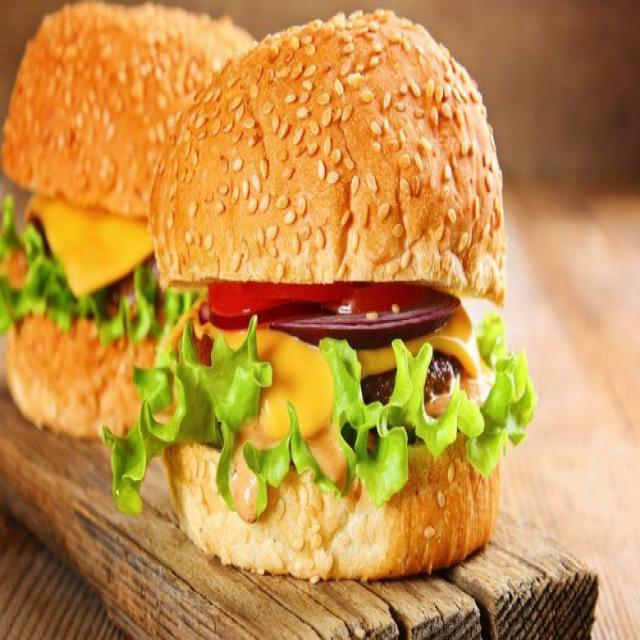burger: (147, 6, 506, 584), (0, 0, 258, 442)
